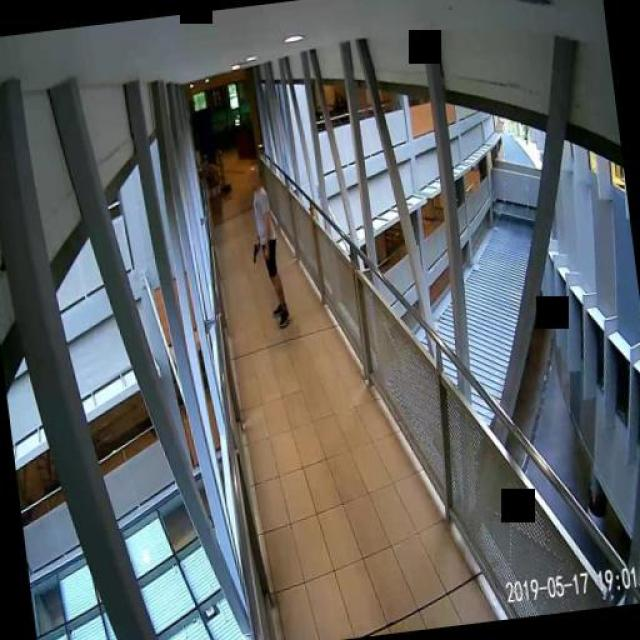gun: (250, 242, 260, 262)
